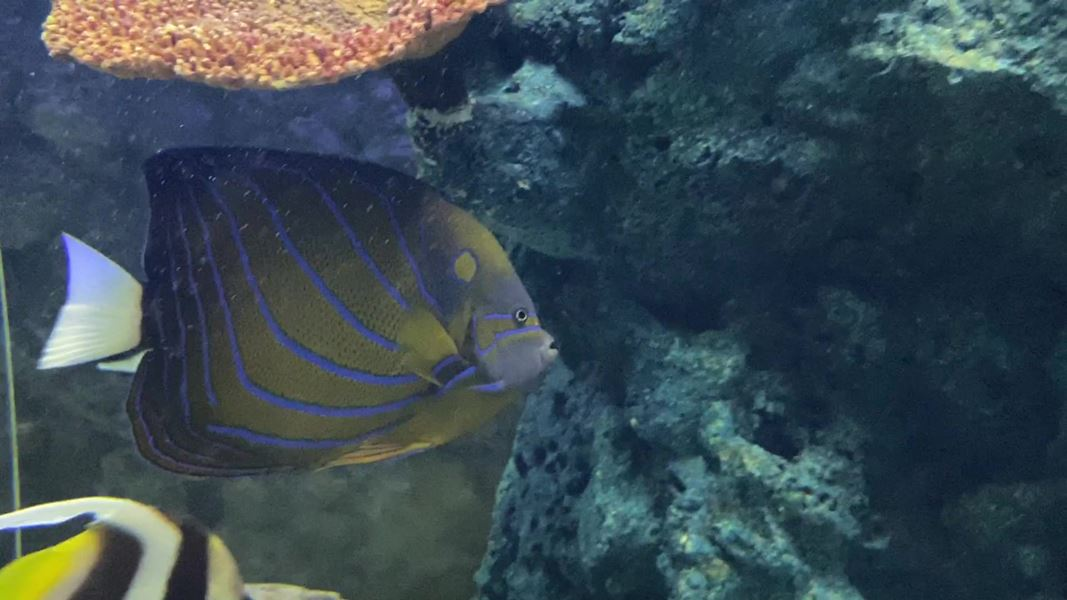Blue ring angelfish: (11, 132, 570, 512)
